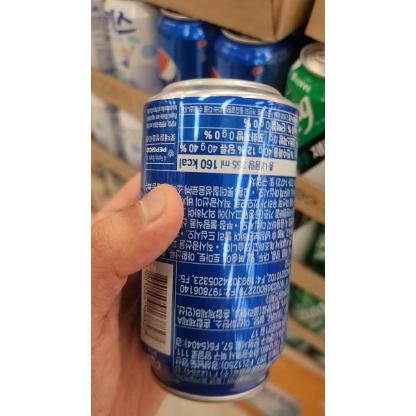Can: (138, 79, 300, 401)
